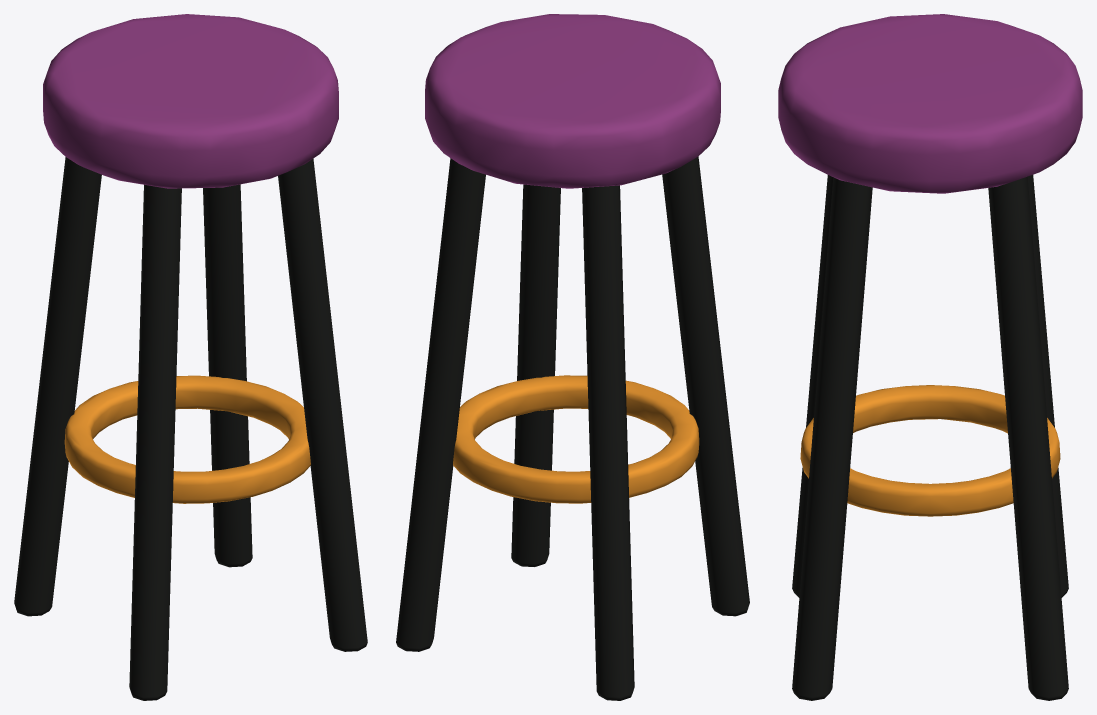
File: barstool_04_purple.fbx
3 views of the same model, side by side, from view 1: azimuth 30°, elevation 25°; view 2: azimuth 150°, elevation 25°; view 3: azimuth 270°, elevation 25° (orthographic). The views are drawn at different scales.
Parts seen in each view (by area): view 1: barstool_04_purple; view 2: barstool_04_purple; view 3: barstool_04_purple.
Part boxes in pixels (box(x1,y1,x2,y2)): barstool_04_purple: box(14, 14, 367, 700); barstool_04_purple: box(396, 14, 749, 700); barstool_04_purple: box(778, 14, 1082, 700).
Bounding box in the file's own units: 43.49 × 90.36 × 43.49.
Materials: 2 (2 with a texture image).
